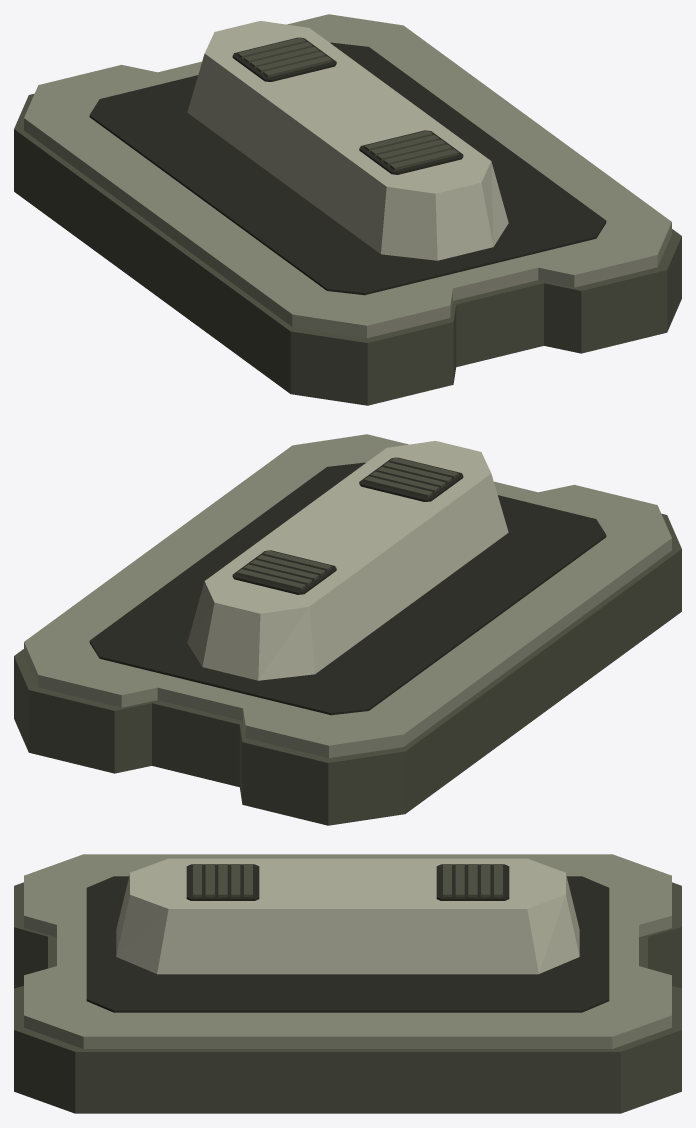
File: vge_mech_gravcapacitor.obj
The picture shows the model from 3 angles, top to bottom: view 1: azimuth 30°, elevation 25°; view 2: azimuth 150°, elevation 25°; view 3: azimuth 270°, elevation 25°; orthographic projection.
Parts seen in each view (by area): view 1: vge_mech_gravcapacitor_1, vge_mech_gravcapacitor_0, vge_mech_gravcapacitor_3, vge_mech_gravcapacitor_2, vge_mech_gravcapacitor_4, vge_mech_gravcapacitor_10; view 2: vge_mech_gravcapacitor_1, vge_mech_gravcapacitor_0, vge_mech_gravcapacitor_3, vge_mech_gravcapacitor_2, vge_mech_gravcapacitor_4, vge_mech_gravcapacitor_10; view 3: vge_mech_gravcapacitor_0, vge_mech_gravcapacitor_3, vge_mech_gravcapacitor_1, vge_mech_gravcapacitor_2, vge_mech_gravcapacitor_4, vge_mech_gravcapacitor_10.
Part boxes in pixels (left/top/right/bottom): vge_mech_gravcapacitor_1: left=24, top=14, right=671, bottom=338; vge_mech_gravcapacitor_0: left=14, top=93, right=681, bottom=405; vge_mech_gravcapacitor_3: left=187, top=21, right=508, bottom=260; vge_mech_gravcapacitor_2: left=89, top=42, right=606, bottom=295; vge_mech_gravcapacitor_4: left=232, top=37, right=336, bottom=81; vge_mech_gravcapacitor_10: left=359, top=130, right=463, bottom=174; vge_mech_gravcapacitor_1: left=24, top=434, right=671, bottom=758; vge_mech_gravcapacitor_0: left=14, top=513, right=681, bottom=825; vge_mech_gravcapacitor_3: left=187, top=441, right=508, bottom=680; vge_mech_gravcapacitor_2: left=89, top=462, right=606, bottom=715; vge_mech_gravcapacitor_4: left=232, top=550, right=336, bottom=594; vge_mech_gravcapacitor_10: left=359, top=457, right=463, bottom=501; vge_mech_gravcapacitor_0: left=14, top=882, right=681, bottom=1113; vge_mech_gravcapacitor_3: left=116, top=858, right=579, bottom=974; vge_mech_gravcapacitor_1: left=24, top=854, right=671, bottom=1048; vge_mech_gravcapacitor_2: left=86, top=876, right=609, bottom=1012; vge_mech_gravcapacitor_4: left=436, top=864, right=509, bottom=900; vge_mech_gravcapacitor_10: left=186, top=864, right=259, bottom=900.
Size of the model in its own units: 1.96 by 0.682 by 2.94.
